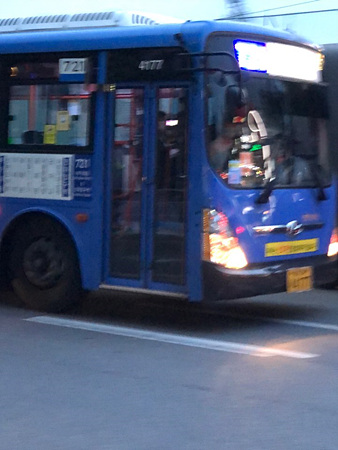entrance: (107, 78, 196, 294)
